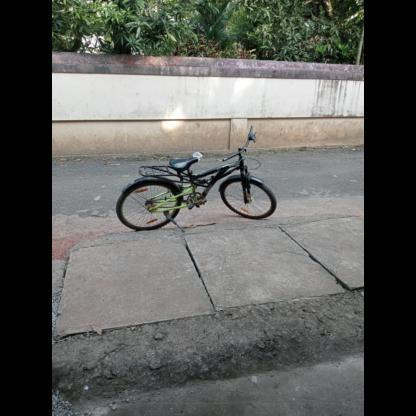Bicycle: (107, 122, 283, 245)
